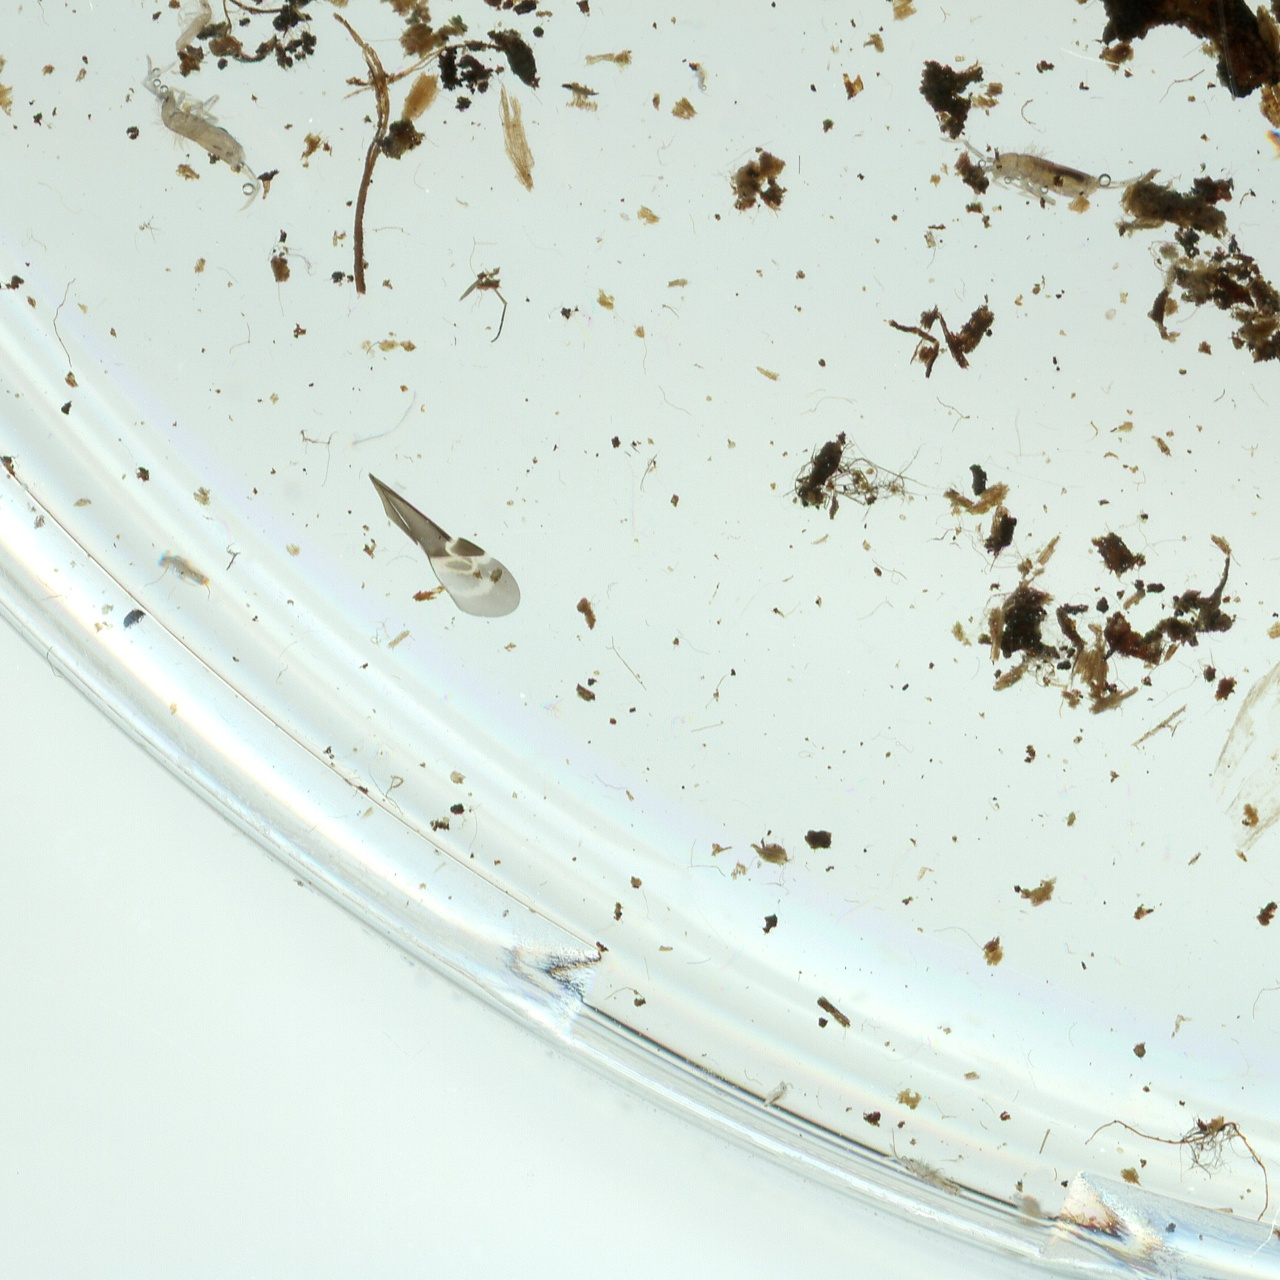arthropod: (103, 46, 295, 217), (939, 136, 1150, 213), (873, 1126, 976, 1204), (145, 543, 227, 605), (156, 0, 227, 63), (1247, 105, 1280, 202), (757, 1075, 798, 1115), (115, 601, 150, 634), (688, 57, 713, 100)
